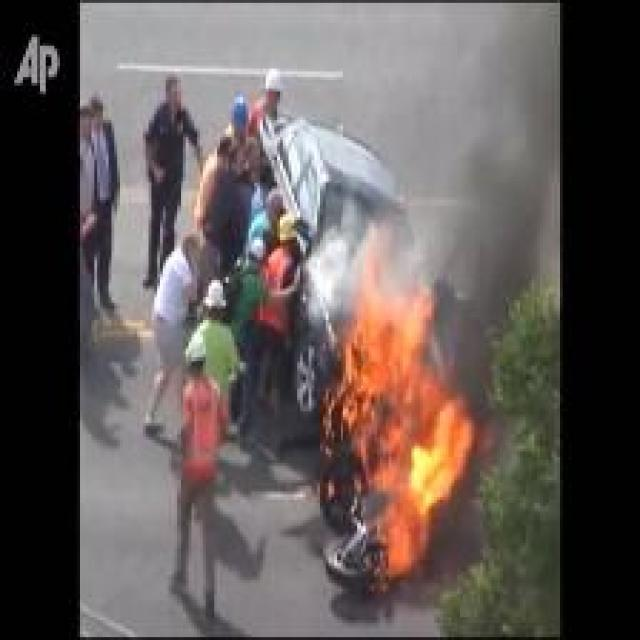Fire: (324, 227, 472, 576)
